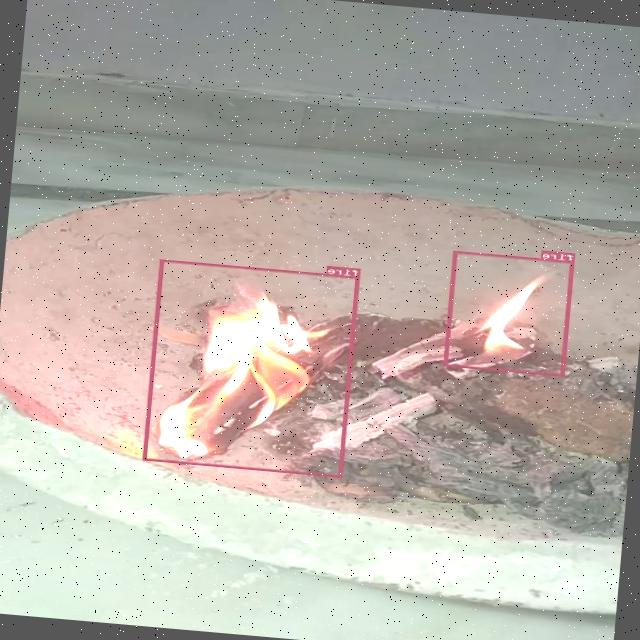fire: (143, 258, 360, 477), (444, 250, 575, 376)
